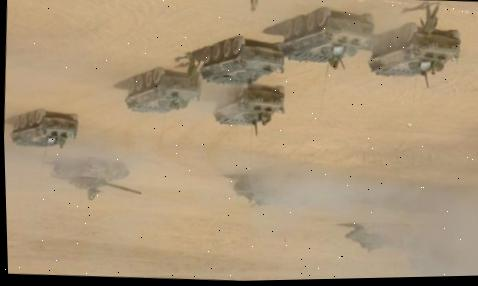armored_car: (277, 3, 377, 68), (365, 19, 463, 84), (191, 32, 287, 90), (211, 83, 288, 139), (123, 65, 203, 118), (9, 107, 80, 151)
tank: (44, 152, 149, 207)
